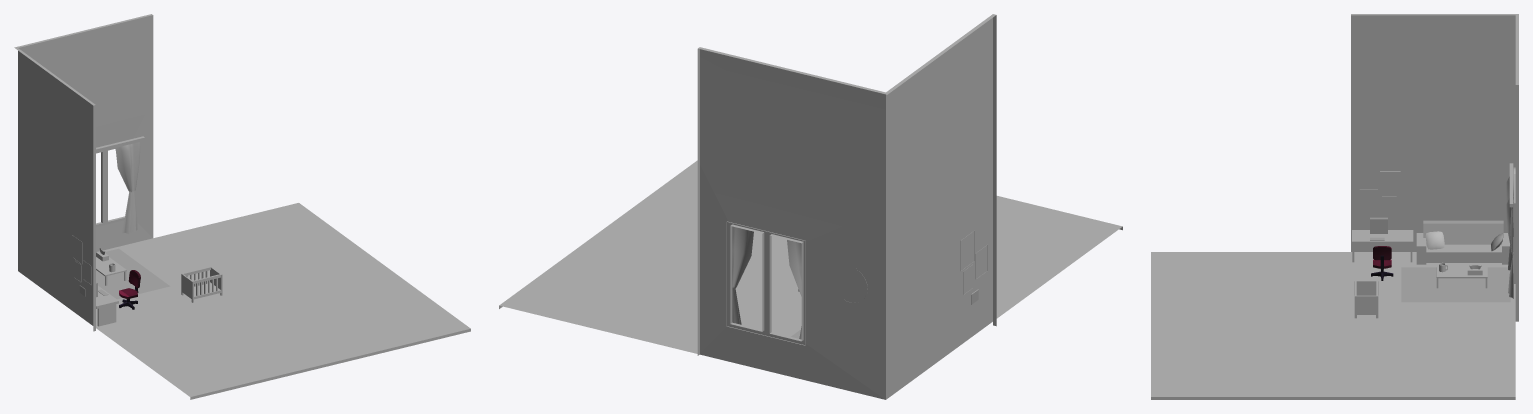
File: Tx_Interior_Home_Level1_20170719.fbx
3 views of the same model, side by side, from view 1: azimuth 30°, elevation 25°; view 2: azimuth 150°, elevation 25°; view 3: azimuth 270°, elevation 25° (orthographic). The views are drawn at different scales.
Parts seen in each view (by area): view 1: bg, window, pPlane1, baby_crib; view 2: bg, window; view 3: bg, pPlane1, polySurface251, polySurface256, photos, window, baby_crib, polySurface241, polySurface247, polySurface255.
Part boxes in pixels (x1=…): bg: x1=14, y1=14, x2=470, y2=399; window: x1=96, y1=136, x2=144, y2=233; pPlane1: x1=96, y1=248, x2=170, y2=299; baby_crib: x1=181, y1=266, x2=222, y2=302; bg: x1=499, y1=14, x2=1122, y2=399; window: x1=726, y1=221, x2=805, y2=345; bg: x1=1151, y1=14, x2=1518, y2=399; pPlane1: x1=1401, y1=267, x2=1510, y2=302; polySurface251: x1=1423, y1=220, x2=1503, y2=244; polySurface256: x1=1426, y1=244, x2=1501, y2=262; photos: x1=1359, y1=171, x2=1400, y2=215; window: x1=1506, y1=163, x2=1515, y2=298; baby_crib: x1=1354, y1=280, x2=1378, y2=318; polySurface241: x1=1352, y1=230, x2=1413, y2=244; polySurface247: x1=1436, y1=265, x2=1487, y2=278; polySurface255: x1=1416, y1=233, x2=1426, y2=264.
Bounding box in the file's own units: 46.83 × 35.69 × 49.68.
